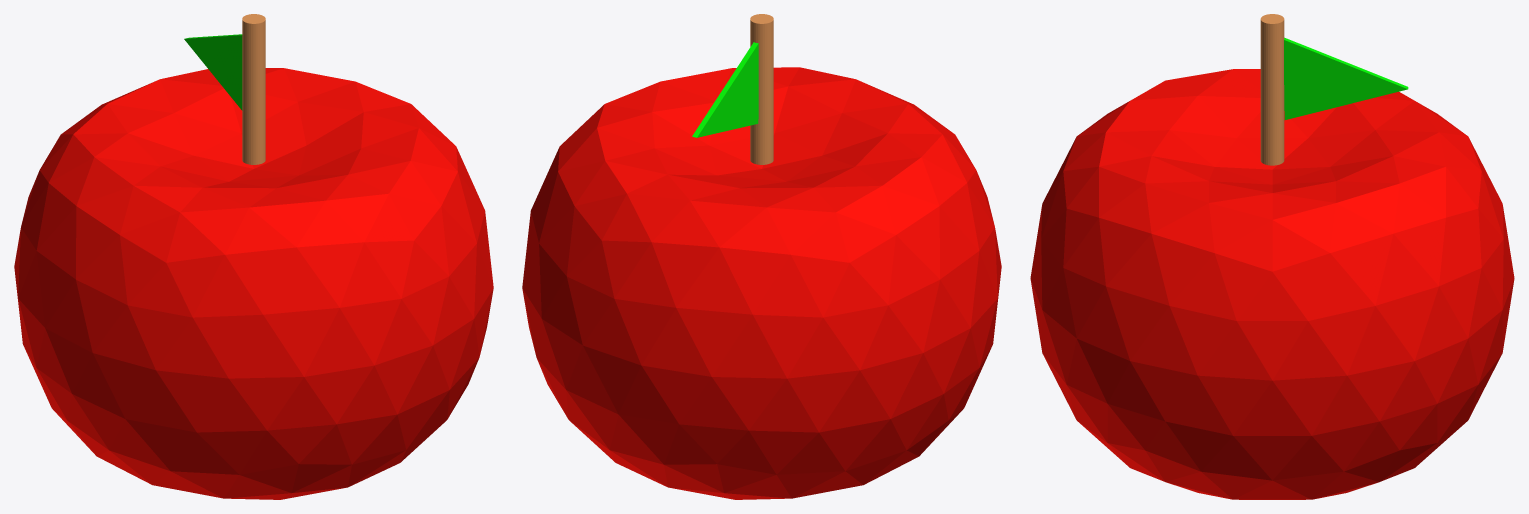
The model's file is Apple.fbx.
The picture shows the model from 3 angles, left to right: view 1: azimuth 30°, elevation 25°; view 2: azimuth 150°, elevation 25°; view 3: azimuth 270°, elevation 25°; orthographic projection.
Parts seen in each view (by area): view 1: Apple; view 2: Apple; view 3: Apple.
Boxes of the visible parts, left/top/right/bottom form: Apple: left=14, top=14, right=493, bottom=499; Apple: left=522, top=14, right=1001, bottom=499; Apple: left=1030, top=14, right=1514, bottom=499.
Size of the model in its own units: 200 by 202 by 200.
